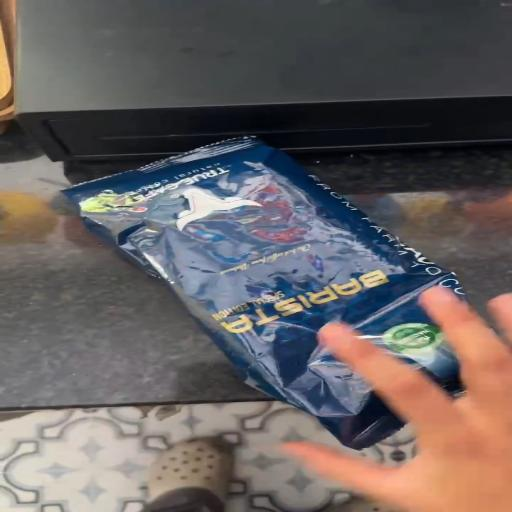cafe_hat: (63, 137, 464, 448)
